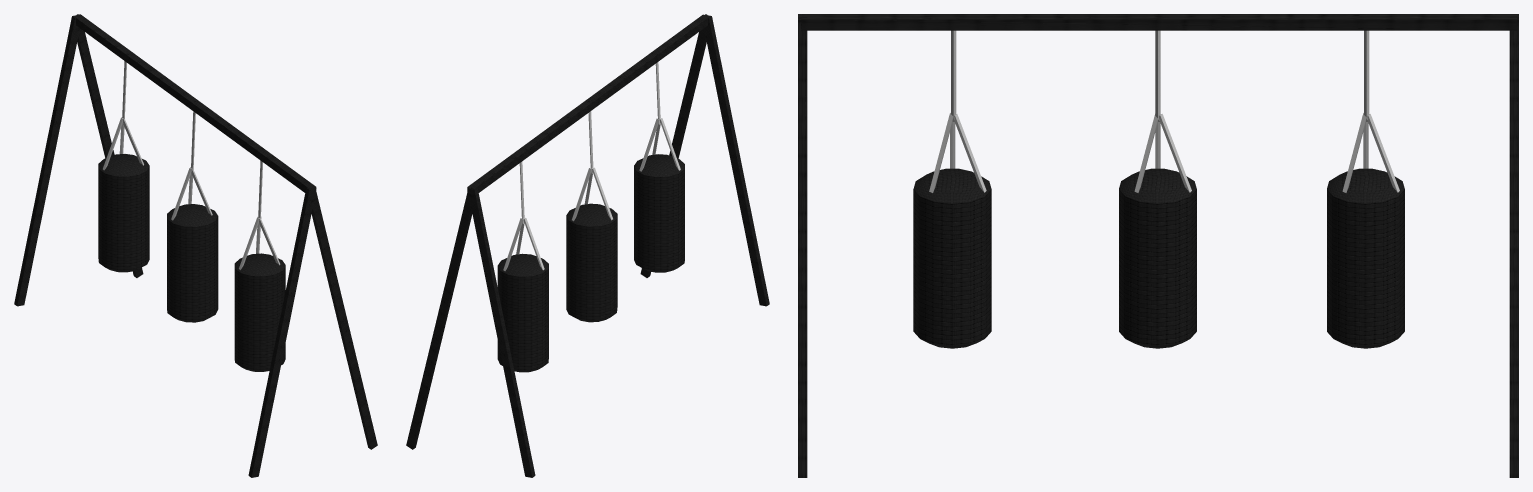
The model's file is model_trainingroom_item02.obj.
The picture shows the model from 3 angles, left to right: view 1: azimuth 30°, elevation 25°; view 2: azimuth 150°, elevation 25°; view 3: azimuth 270°, elevation 25°; orthographic projection. The views are drawn at different scales.
Parts seen in each view (by area): view 1: group31 group32 group33 group52 pasted__pasted__pCube3 pasted__g, group31 group32 group33 group52 group30 pasted__pCylinder1 group, group31 group32 group33 group52 pasted__pasted__pCylinder1 paste, group31 group32 group33 group52 group29 group23 pCylinder1, pCube3 group31 group32 group33 group52, group31 group32 group33 group52 pasted__pCube3 group26, group31 group32 group33 group52 group28 pasted__pasted__pasted__, group31 group32 group33 group52 pasted__group21 group22 pasted__, group31 group32 group33 group52 pasted__pasted__pasted__pasted__; view 2: group31 group32 group33 group52 pasted__pasted__pCylinder1 paste, group31 group32 group33 group52 group29 group23 pCylinder1, group31 group32 group33 group52 group30 pasted__pCylinder1 group, group31 group32 group33 group52 pasted__pasted__pCube3 pasted__g, pCube3 group31 group32 group33 group52, group31 group32 group33 group52 pasted__pCube3 group26, group31 group32 group33 group52 group28 pasted__pasted__pasted__, group31 group32 group33 group52 pasted__group21 group22 pasted__, group31 group32 group33 group52 pasted__pasted__pasted__pasted__; view 3: group31 group32 group33 group52 group29 group23 pCylinder1, group31 group32 group33 group52 pasted__pasted__pCylinder1 paste, group31 group32 group33 group52 group30 pasted__pCylinder1 group, pCube3 group31 group32 group33 group52, group31 group32 group33 group52 pasted__pasted__pCube3 pasted__g, group31 group32 group33 group52 group28 pasted__pasted__pasted__, group31 group32 group33 group52 pasted__group21 group22 pasted__, group31 group32 group33 group52 pasted__pasted__pasted__pasted__, group31 group32 group33 group52 group30 group21 pasted__pasted__.
Part boxes in pixels (x1=…): group31 group32 group33 group52 pasted__pasted__pCube3 pasted__g: x1=14, y1=16, x2=377, y2=449; group31 group32 group33 group52 group30 pasted__pCylinder1 group: x1=98, y1=154, x2=149, y2=272; group31 group32 group33 group52 pasted__pasted__pCylinder1 paste: x1=167, y1=204, x2=218, y2=322; group31 group32 group33 group52 group29 group23 pCylinder1: x1=234, y1=253, x2=285, y2=371; pCube3 group31 group32 group33 group52: x1=73, y1=14, x2=316, y2=192; group31 group32 group33 group52 pasted__pCube3 group26: x1=248, y1=187, x2=316, y2=477; group31 group32 group33 group52 group28 pasted__pasted__pasted__: x1=71, y1=14, x2=143, y2=277; group31 group32 group33 group52 pasted__group21 group22 pasted__: x1=171, y1=111, x2=212, y2=220; group31 group32 group33 group52 pasted__pasted__pasted__pasted__: x1=122, y1=61, x2=262, y2=223; group31 group32 group33 group52 pasted__pasted__pCylinder1 paste: x1=566, y1=203, x2=617, y2=322; group31 group32 group33 group52 group29 group23 pCylinder1: x1=634, y1=154, x2=684, y2=272; group31 group32 group33 group52 group30 pasted__pCylinder1 group: x1=497, y1=253, x2=548, y2=372; group31 group32 group33 group52 pasted__pasted__pCube3 pasted__g: x1=467, y1=14, x2=712, y2=477; pCube3 group31 group32 group33 group52: x1=467, y1=14, x2=709, y2=192; group31 group32 group33 group52 pasted__pCube3 group26: x1=704, y1=15, x2=769, y2=306; group31 group32 group33 group52 group28 pasted__pasted__pasted__: x1=406, y1=185, x2=477, y2=449; group31 group32 group33 group52 pasted__group21 group22 pasted__: x1=572, y1=111, x2=612, y2=221; group31 group32 group33 group52 pasted__pasted__pasted__pasted__: x1=519, y1=62, x2=660, y2=223; group31 group32 group33 group52 group29 group23 pCylinder1: x1=913, y1=168, x2=991, y2=348; group31 group32 group33 group52 pasted__pasted__pCylinder1 paste: x1=1119, y1=168, x2=1196, y2=348; group31 group32 group33 group52 group30 pasted__pCylinder1 group: x1=1327, y1=168, x2=1404, y2=348; pCube3 group31 group32 group33 group52: x1=801, y1=14, x2=1517, y2=30; group31 group32 group33 group52 pasted__pasted__pCube3 pasted__g: x1=798, y1=14, x2=1518, y2=477; group31 group32 group33 group52 group28 pasted__pasted__pasted__: x1=1509, y1=17, x2=1518, y2=477; group31 group32 group33 group52 pasted__group21 group22 pasted__: x1=1134, y1=30, x2=1191, y2=192; group31 group32 group33 group52 pasted__pasted__pasted__pasted__: x1=951, y1=30, x2=1369, y2=121; group31 group32 group33 group52 group30 group21 pasted__pasted__: x1=1342, y1=113, x2=1399, y2=192.
Bounding box in the file's own units: 1.21 × 2.53 × 3.94.
8 materials, 8 textured.
